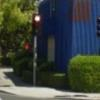traffic lights: (32, 13, 43, 38)
